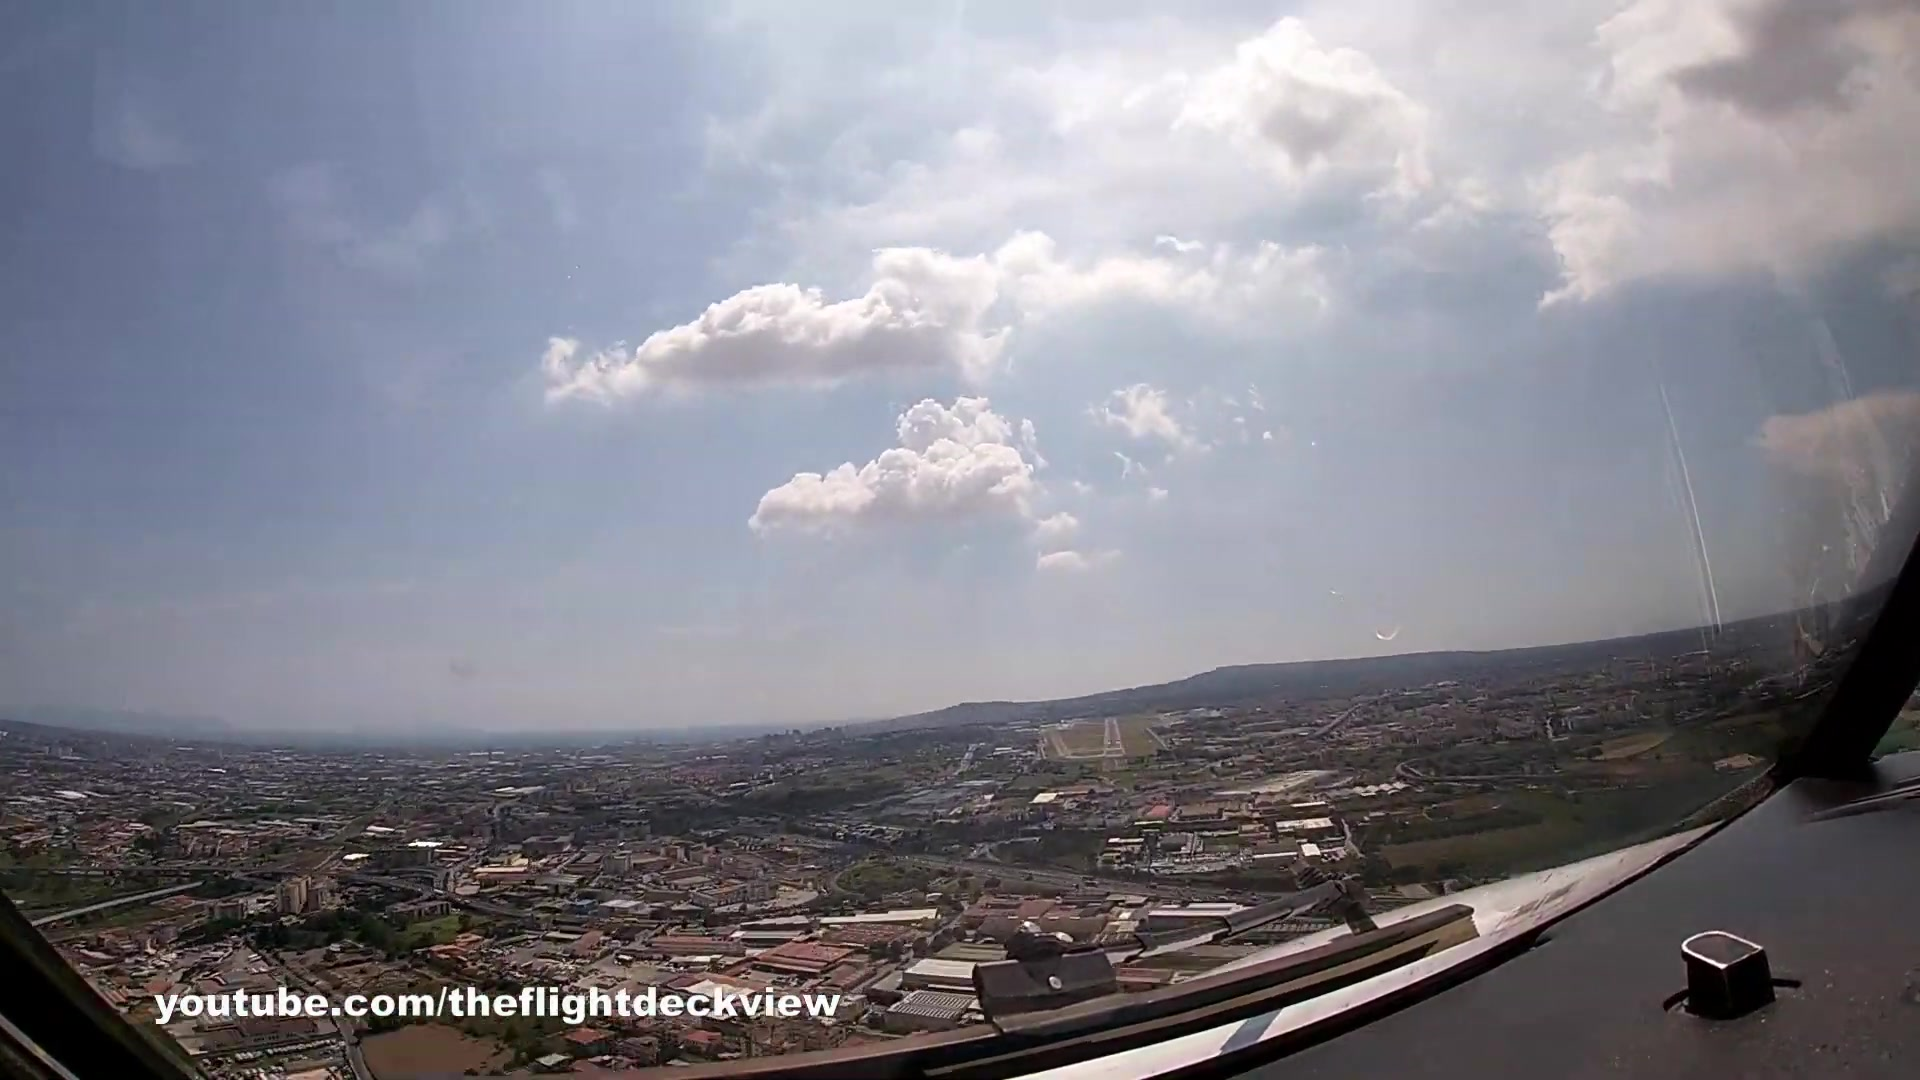runway: (1101, 717, 1124, 756)
